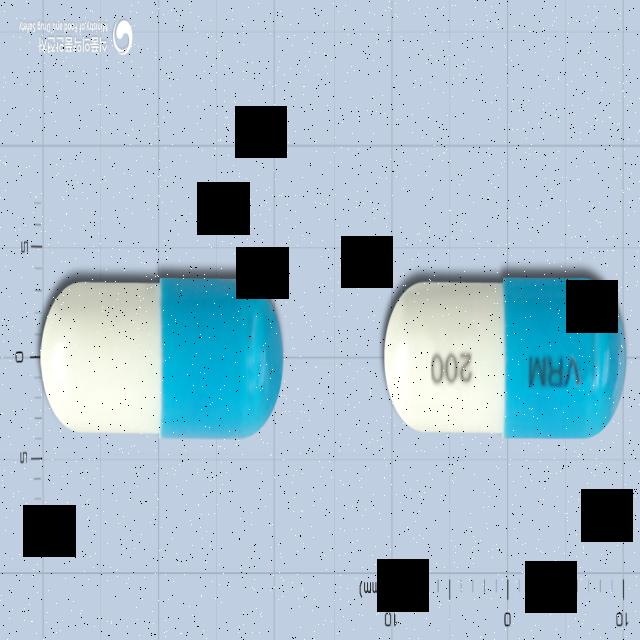Viramid Cap-200mg: (383, 274, 625, 442), (39, 275, 283, 441)
